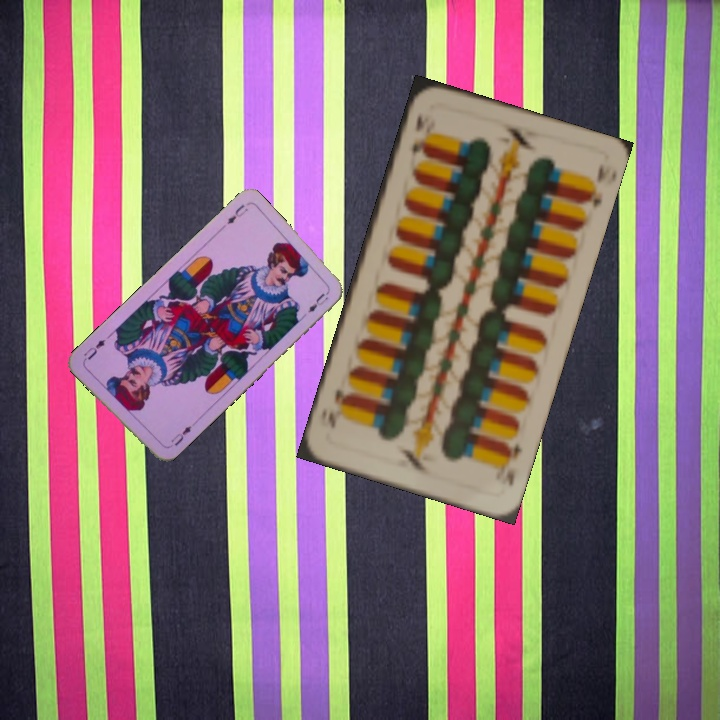E10: (499, 438, 525, 489), (407, 110, 427, 159)
EU: (167, 419, 197, 449), (223, 200, 250, 227)
